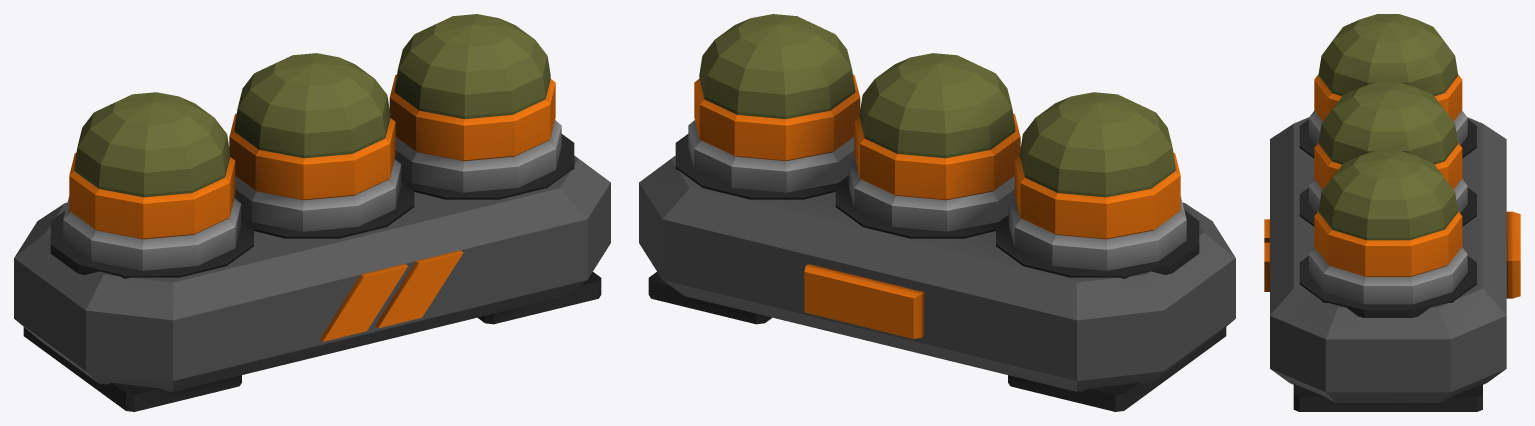
The model's file is ammo-grenade-launcher.glb.
3 views of the same model, side by side, from view 1: azimuth 30°, elevation 25°; view 2: azimuth 150°, elevation 25°; view 3: azimuth 270°, elevation 25° (orthographic). The views are drawn at different scales.
Visible parts, largest first — view 1: orb-refill; view 2: orb-refill; view 3: orb-refill.
Boxes of the visible parts, x1=… form: orb-refill: x1=14, y1=14, x2=610, y2=411; orb-refill: x1=639, y1=14, x2=1235, y2=411; orb-refill: x1=1264, y1=14, x2=1520, y2=411.
Bounding box in the file's own units: 0.19 × 0.0872 × 0.092.
1 material, 1 textured.
